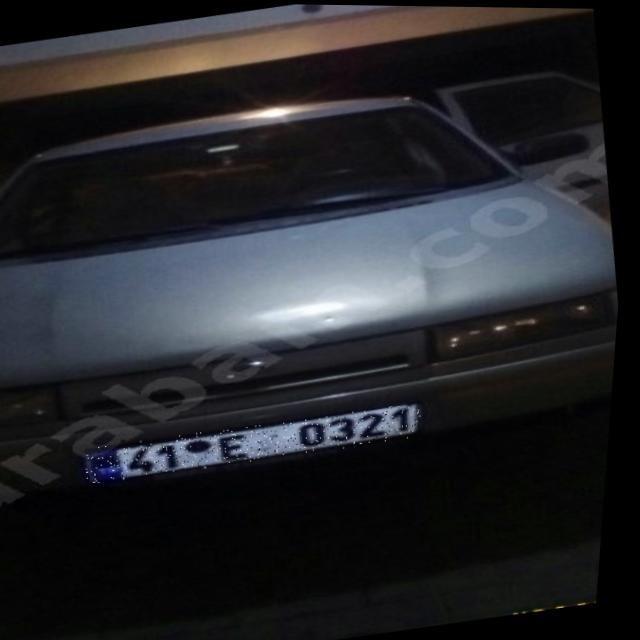license_plate: (89, 396, 431, 488)
